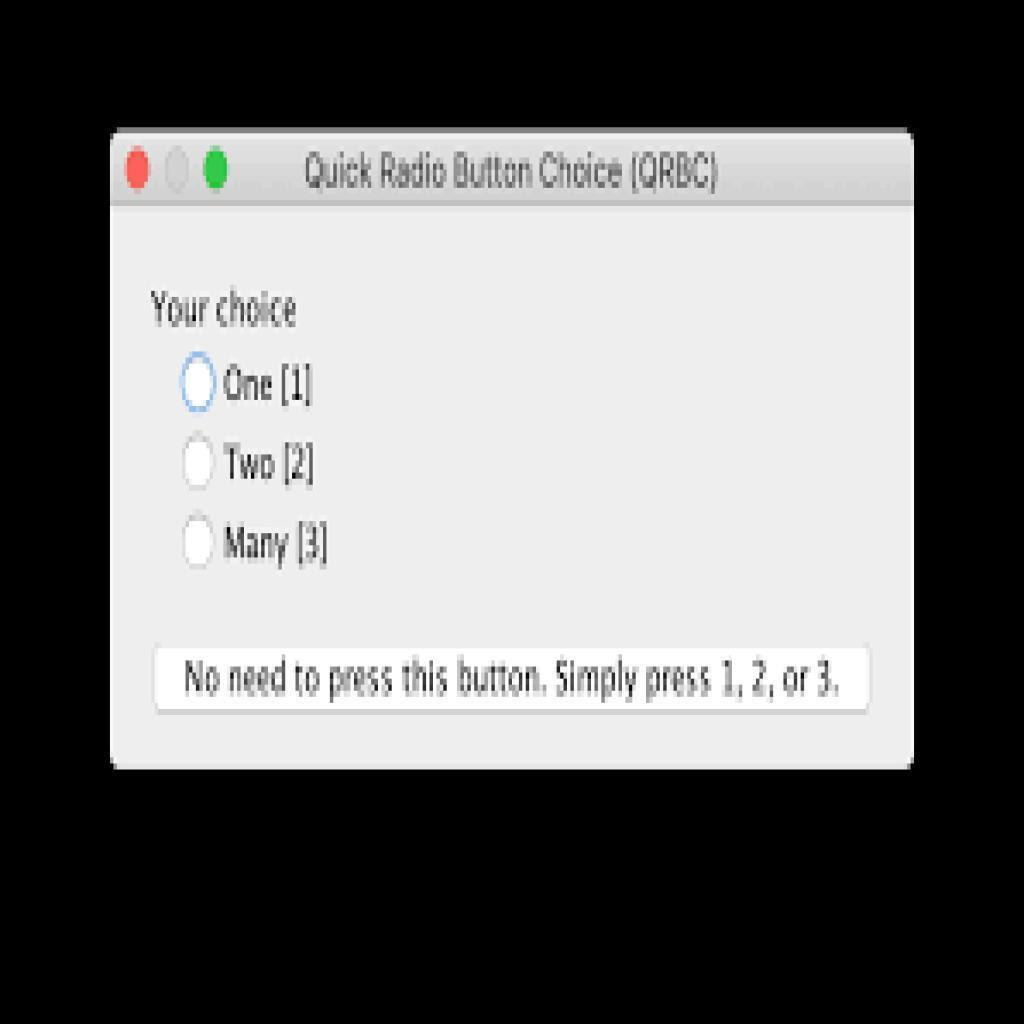radio: (181, 350, 222, 418), (178, 515, 223, 574), (179, 430, 220, 493)
